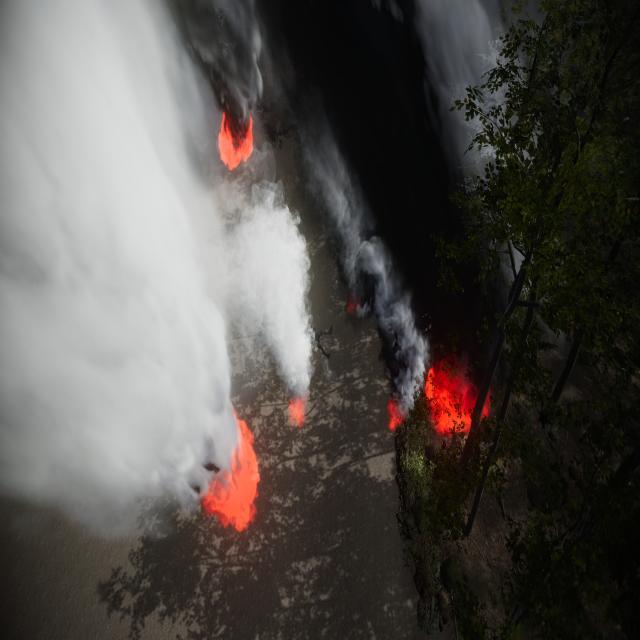Human: (296, 309, 338, 364)
